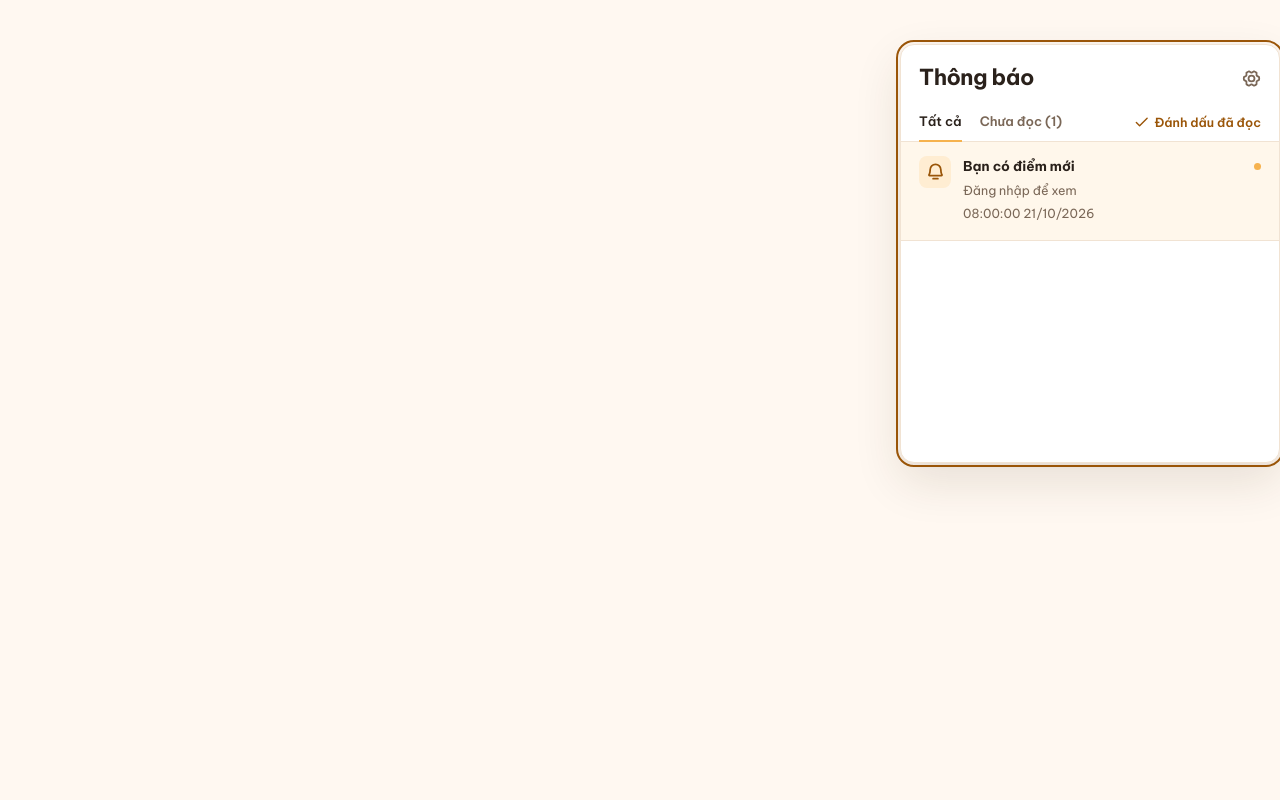
it: student opens email settings from the gear as its own view and comes back to the list
Expected: the button with test id "notification-item" is shown, [901,142,1279,241]
Click the button named "Cài đặt thông báo". click: (1251, 78)
box: [1235,62,1267,94]
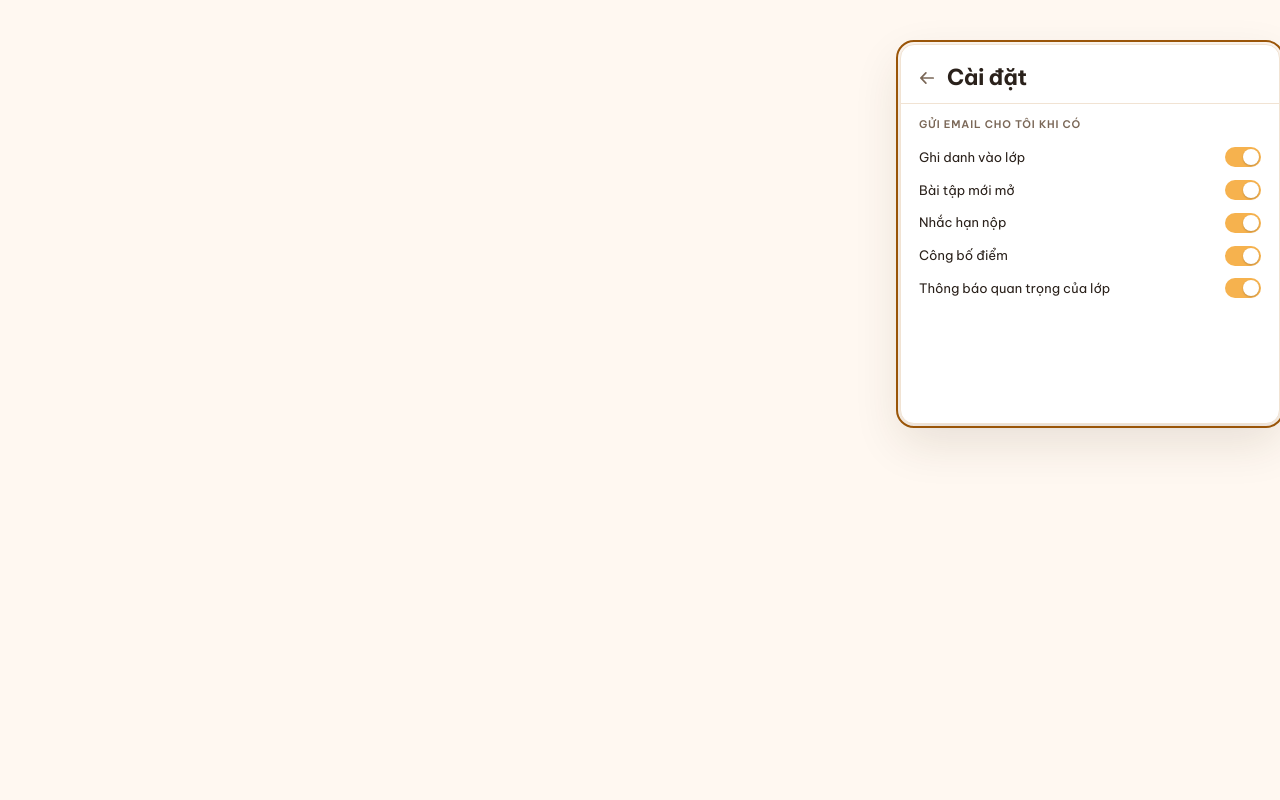
Now the switch named "Ghi danh vào lớp" is shown, box [1225,147,1261,167]
Now the heading "Cài đặt" is shown, box [947,63,1027,91]
Now the tab is gone
Click the button named "Quay lại thông báo". click: (927, 78)
box: [911,62,943,94]
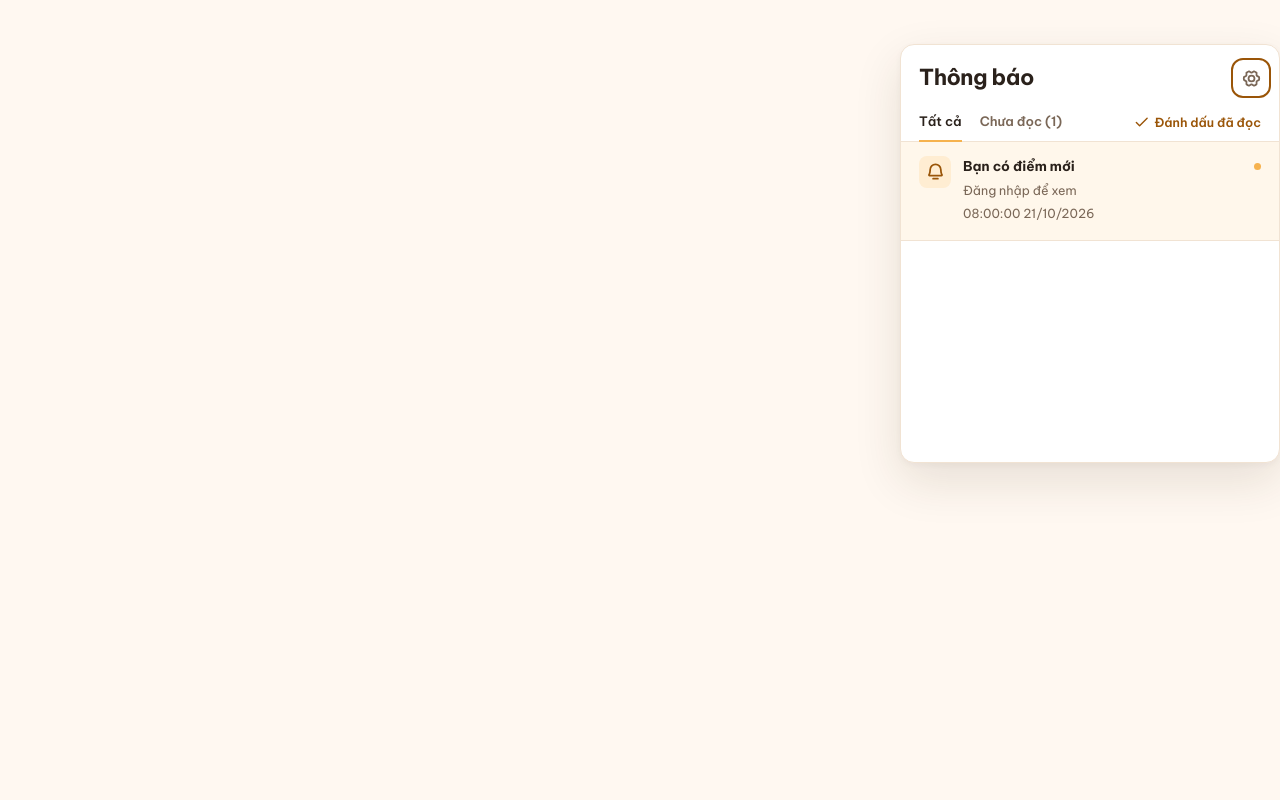
Now the heading "Thông báo" is shown, box [919,63,1034,91]
Now the button with test id "notification-item" is shown, box [901,142,1279,241]
